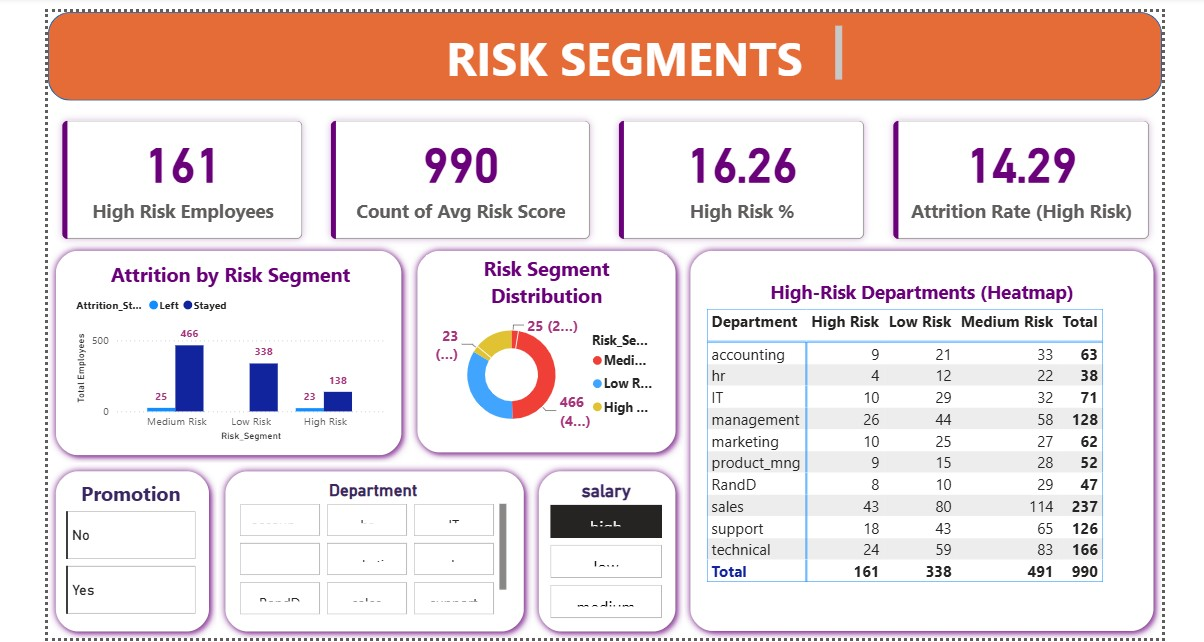

Layout of this report page (visuals, bound fields, positions):
{"tool":"powerbi","page":{"name":"RISK SEGMENTS","canvas":[1280,720],"ordinal":2},"visuals":[{"type":"shape","box":[0,0,1280.4,101.8],"z":0},{"type":"textbox","box":[415.1,11.1,502.6,76.3],"z":1000},{"type":"cardVisual","fields":{"Data":["HR_cleaned.High Risk %"]},"box":[639.4,108.2,314.9,168.6],"z":2000},{"type":"cardVisual","fields":{"Data":["HR_cleaned.High Risk Employees"]},"box":[0,108.2,308.6,168.6],"z":3000},{"type":"cardVisual","fields":{"Data":["CountNonNull(HR_cleaned.Avg Risk Score)"]},"box":[308.6,108.2,330.8,168.6],"z":4000},{"type":"cardVisual","fields":{"Data":["HR_cleaned.Attrition Rate (High Risk)"]},"box":[954.4,108.2,326.1,168.6],"z":5000},{"type":"shape","box":[415.1,265.6,314.9,249.7],"z":11006},{"type":"shape","box":[0,265.6,415.1,252.9],"z":11007},{"type":"clusteredColumnChart","title":"Attrition by Risk Segment","fields":{"Category":["HR_cleaned.Risk_Segment"],"Y":["HR_cleaned.Total Employees"],"Series":["HR_cleaned.Attrition_Status"]},"box":[27,286.3,364.2,211.6],"z":11008},{"type":"shape","box":[730.1,265.6,550.4,454.9],"z":11009},{"type":"pivotTable","title":"High-Risk Departments (Heatmap)","fields":{"Rows":["HR_cleaned.Department"],"Columns":["HR_cleaned.Risk_Segment"],"Values":["HR_cleaned.Total Employees"]},"box":[752.4,307,505.8,389.7],"z":11010},{"type":"donutChart","title":"Risk Segment Distribution","fields":{"Category":["HR_cleaned.Risk_Segment"],"Y":["HR_cleaned.Total Employees"],"Series":["HR_cleaned.Attrition_Status"]},"box":[434.2,279.9,276.8,213.1],"z":11012},{"type":"shape","box":[194.1,518.5,361.1,202],"z":11013},{"type":"advancedSlicerVisual","fields":{"Values":["HR_cleaned.Department"]},"box":[214.7,537.6,316.5,159.1],"z":11014},{"type":"shape","box":[555.1,518.5,175,202],"z":11015},{"type":"advancedSlicerVisual","fields":{"Values":["HR_cleaned.salary"]},"box":[572.6,537.6,138.4,163.8],"z":11016},{"type":"shape","box":[0,518.5,194.1,202],"z":11017},{"type":"advancedSlicerVisual","fields":{"Values":["HR_cleaned.Promotion_Status"]},"box":[15.9,537.6,159.1,159.1],"z":11018}]}

Visuals, with their boxes on the page's 1280x720 design canvas (x1, y1, x2, y2). These are canvas units, not pixel positions in the 1204x642 screenshot, which may show the page scaled, cropped or inside an application window:
shape: {"left": 0, "top": 0, "right": 1280, "bottom": 102}
textbox: {"left": 415, "top": 11, "right": 918, "bottom": 87}
cardVisual - HR_cleaned.High Risk %: {"left": 639, "top": 108, "right": 954, "bottom": 277}
cardVisual - HR_cleaned.High Risk Employees: {"left": 0, "top": 108, "right": 309, "bottom": 277}
cardVisual - CountNonNull(HR_cleaned.Avg Risk Score): {"left": 309, "top": 108, "right": 639, "bottom": 277}
cardVisual - HR_cleaned.Attrition Rate (High Risk): {"left": 954, "top": 108, "right": 1280, "bottom": 277}
shape: {"left": 415, "top": 266, "right": 730, "bottom": 515}
shape: {"left": 0, "top": 266, "right": 415, "bottom": 518}
"Attrition by Risk Segment" clusteredColumnChart: {"left": 27, "top": 286, "right": 391, "bottom": 498}
shape: {"left": 730, "top": 266, "right": 1280, "bottom": 720}
"High-Risk Departments (Heatmap)" pivotTable: {"left": 752, "top": 307, "right": 1258, "bottom": 697}
"Risk Segment Distribution" donutChart: {"left": 434, "top": 280, "right": 711, "bottom": 493}
shape: {"left": 194, "top": 518, "right": 555, "bottom": 720}
advancedSlicerVisual - HR_cleaned.Department: {"left": 215, "top": 538, "right": 531, "bottom": 697}
shape: {"left": 555, "top": 518, "right": 730, "bottom": 720}
advancedSlicerVisual - HR_cleaned.salary: {"left": 573, "top": 538, "right": 711, "bottom": 701}
shape: {"left": 0, "top": 518, "right": 194, "bottom": 720}
advancedSlicerVisual - HR_cleaned.Promotion_Status: {"left": 16, "top": 538, "right": 175, "bottom": 697}
